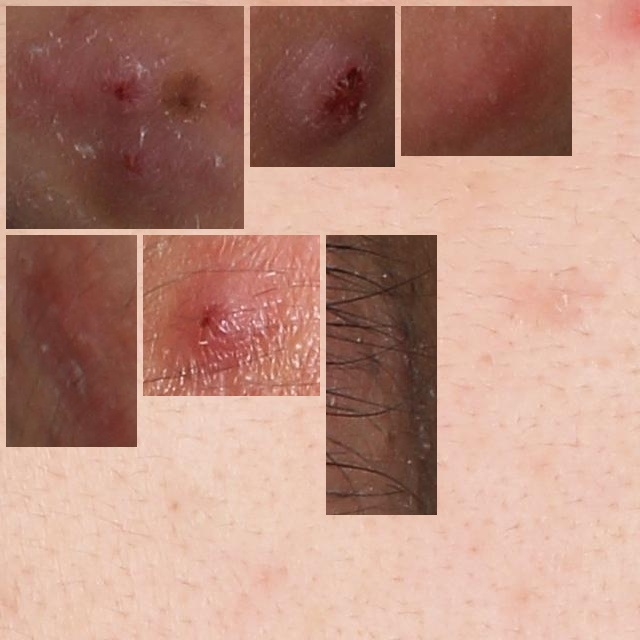nodule: (14, 14, 236, 221), (334, 243, 429, 507), (151, 243, 312, 388), (14, 243, 129, 439), (409, 14, 564, 148), (258, 14, 387, 159)
